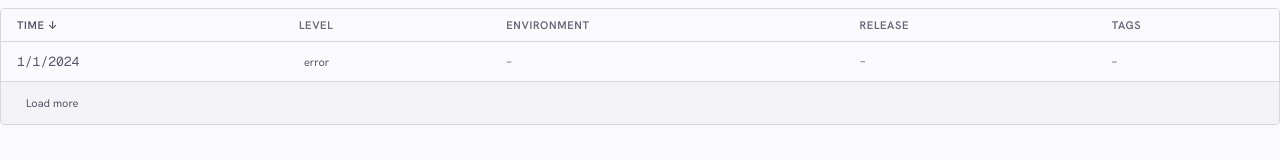
IssueEventList › pages on with the cursor of the previous page
What coordinates should you click on to do the following:
click the button "Load more"
I would click on:
 (52, 103)
Its box is [13,90,92,116].
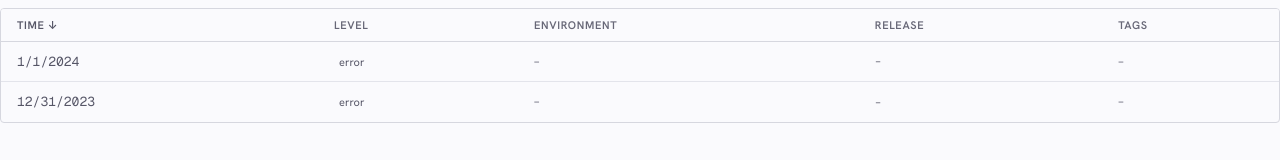
Result: the number of rows with class "evttable__row" is 2 at [1,41,1279,82]; [1,82,1279,122]
